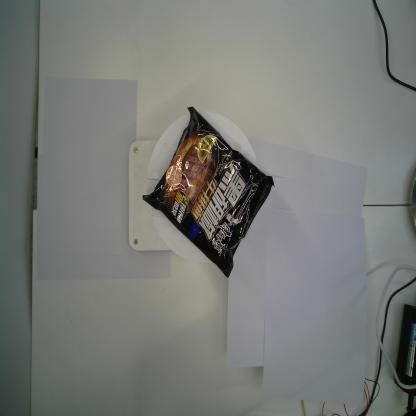Instant Noodles: (141, 105, 276, 279)
